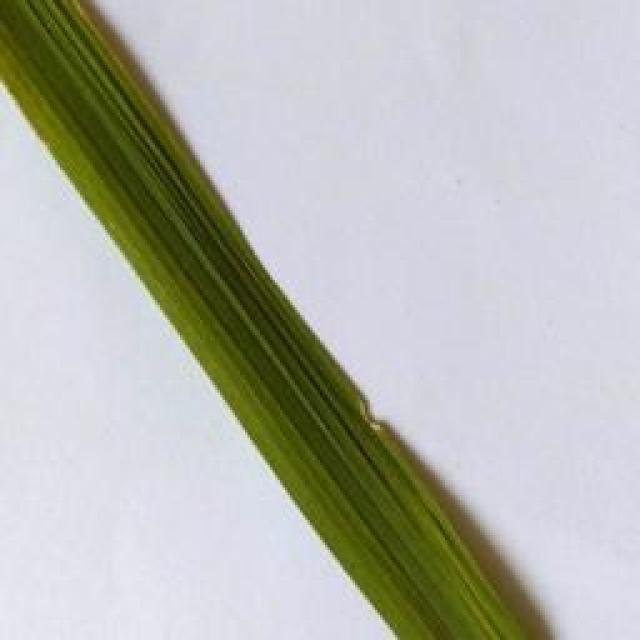Healthy-Plant: (0, 0, 536, 640)
